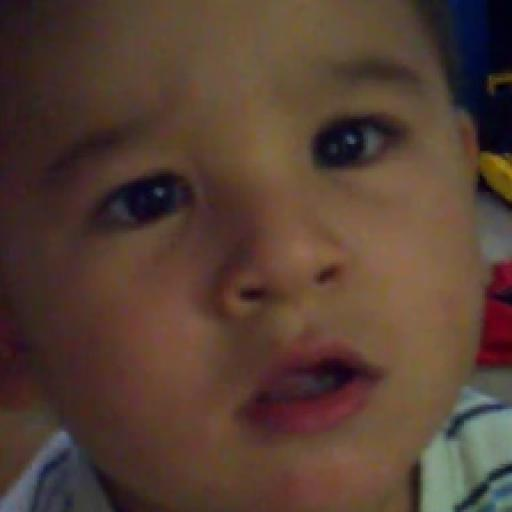Autism: (4, 4, 512, 509)
